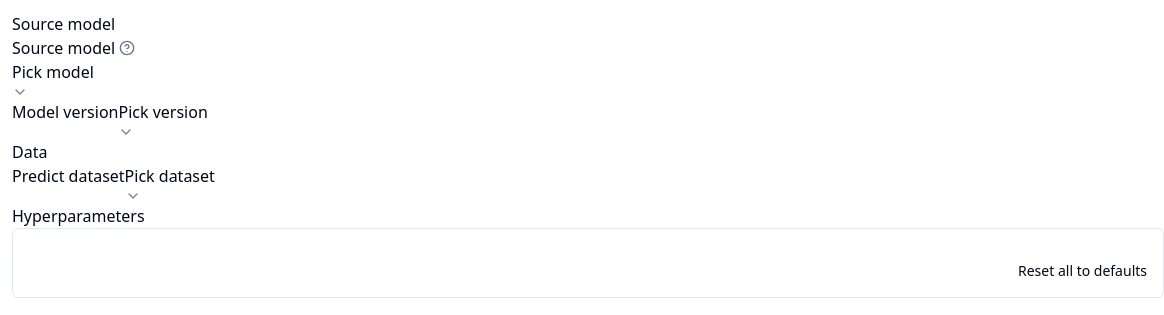
Test case: InferenceSubForm › query-shape fallbacks (L51-64) › tolerates the raw-array (non-`{ items }`) response shape on useDatasets (L63)
The image size is (1164, 315).
What coordinates should you click on to do the following:
click the dropdown named "predict dataset"
I would click on:
 (170, 184)
Its box is [125,164,215,204].
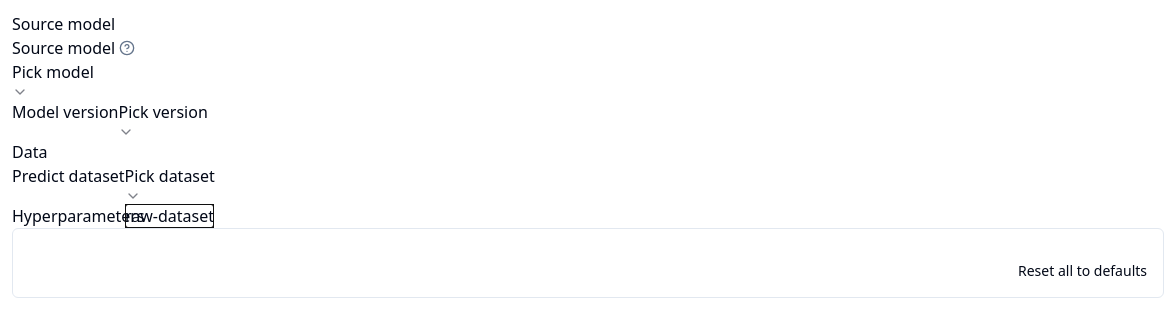
Now the option "raw-dataset" is shown, box [125,204,214,228]
